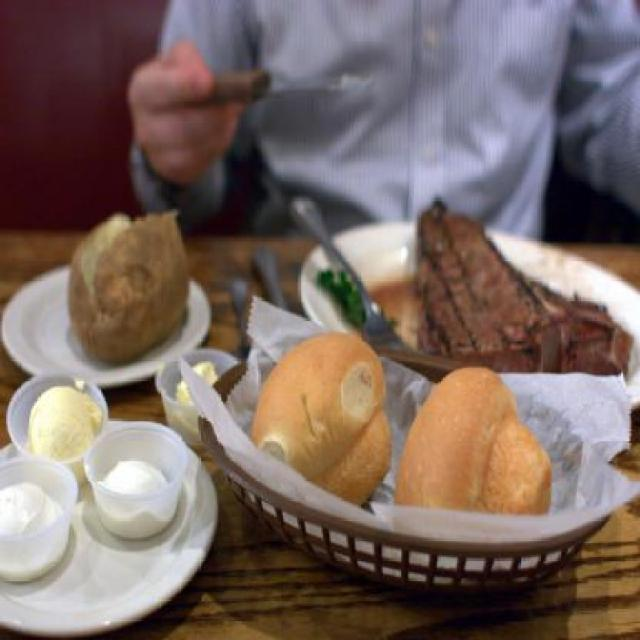Ice cream: (92, 452, 180, 546), (18, 384, 102, 476), (170, 352, 233, 462), (0, 468, 71, 546)
